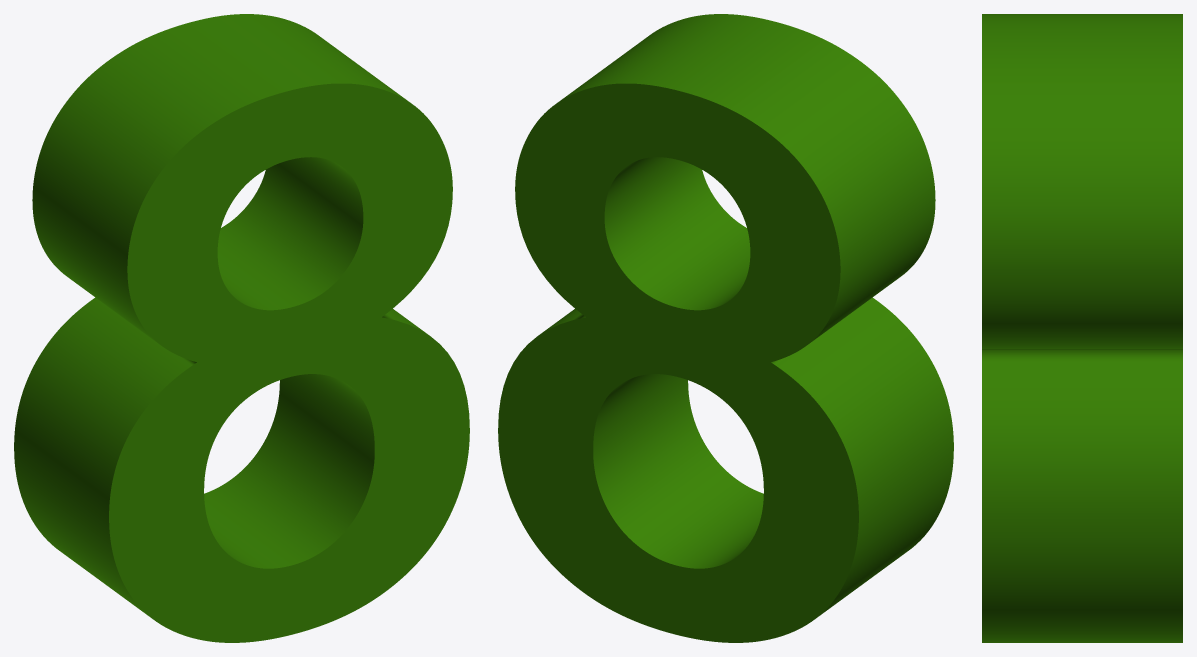
3 views of the same model, side by side, from view 1: azimuth 30°, elevation 25°; view 2: azimuth 150°, elevation 25°; view 3: azimuth 270°, elevation 25° (orthographic). The views are drawn at different scales.
Visible parts, largest first — view 1: テキスト; view 2: テキスト; view 3: テキスト.
Part boxes in pixels (bbox=[...]): テキスト: bbox=[14, 14, 469, 642]; テキスト: bbox=[498, 14, 953, 642]; テキスト: bbox=[982, 14, 1182, 642].
Size of the model in its own units: 0.4388 by 0.6329 by 0.2.
